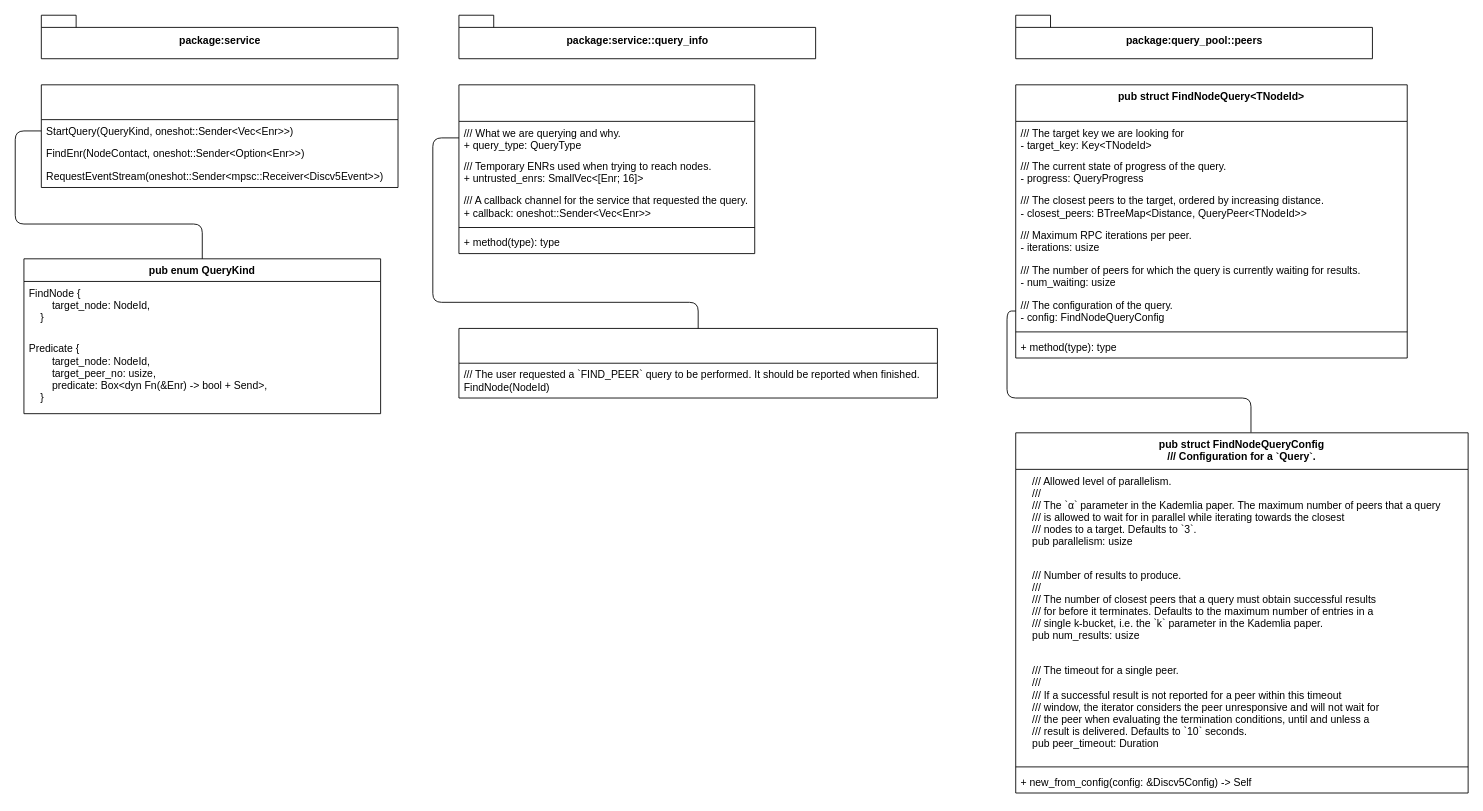
Some shapes in this 1483 by 811 pixel diagram are drawn without their labels. The shapes that lost their labels are listed below. From the top down, each one's box as (x1, y1, x2, y2) in pixels, then its label:
(40, 84, 398, 187): pub enum ServiceRequest /// The types of requests to send to the Discv5 service.
(458, 84, 755, 254): pub struct QueryInfo /// Information about a query.
(458, 328, 937, 398): pub enum QueryType /// Additional information about the query.
